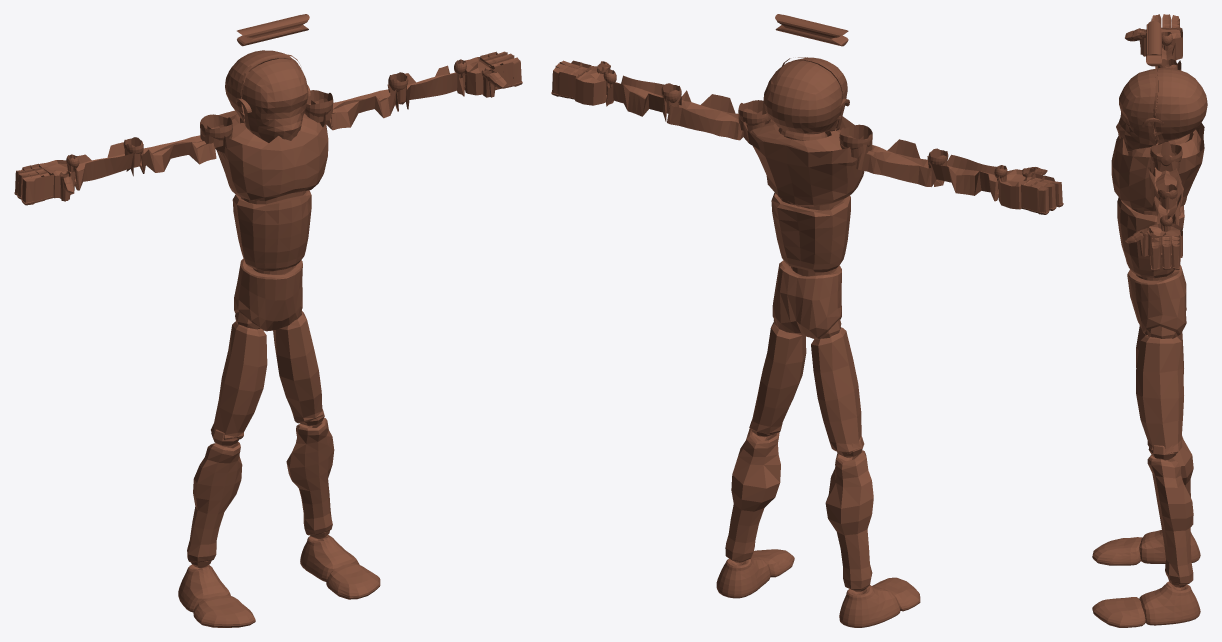
Rendered from 64c5d6fc-ef9a-4327-a5e9-6795dd44cbc5.glb.
The picture shows the model from 3 angles, left to right: view 1: azimuth 30°, elevation 25°; view 2: azimuth 150°, elevation 25°; view 3: azimuth 270°, elevation 25°; orthographic projection. The views are drawn at different scales.
Parts seen in each view (by area): view 1: base_mannequin.glb, base_mannequin.glb_2, base_mannequin.glb_1; view 2: base_mannequin.glb, base_mannequin.glb_2, base_mannequin.glb_1; view 3: base_mannequin.glb, base_mannequin.glb_2, base_mannequin.glb_1.
Part boxes in pixels (x1,y1,x2,y2): base_mannequin.glb: [14, 50, 522, 627]; base_mannequin.glb_2: [66, 54, 466, 567]; base_mannequin.glb_1: [237, 14, 309, 46]; base_mannequin.glb: [551, 57, 1063, 627]; base_mannequin.glb_2: [603, 57, 1007, 591]; base_mannequin.glb_1: [775, 14, 848, 46]; base_mannequin.glb: [1092, 14, 1207, 627]; base_mannequin.glb_2: [1131, 32, 1189, 587]; base_mannequin.glb_1: [1146, 21, 1161, 66].
Bounding box in the file's own units: 1.53 × 1.67 × 0.3161.
Materials: 3 (3 with a texture image).
